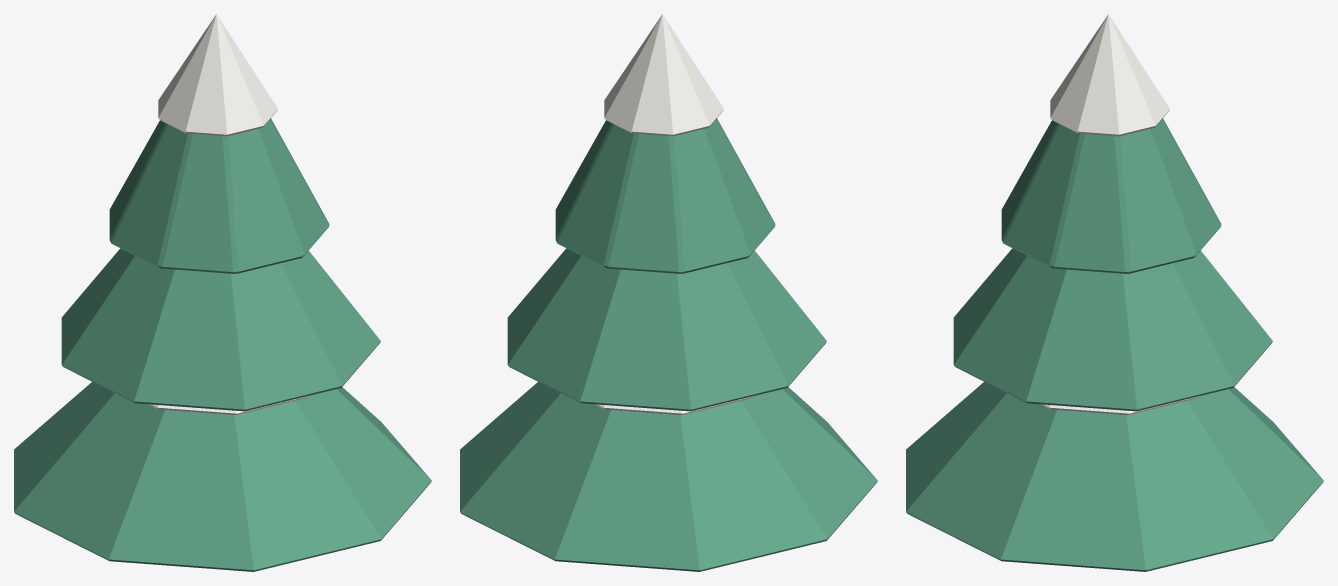
3 renders of one model, left to right at view 1: azimuth 30°, elevation 25°; view 2: azimuth 150°, elevation 25°; view 3: azimuth 270°, elevation 25°, orthographic.
Visible parts, largest first — view 1: PineTree; view 2: PineTree; view 3: PineTree.
Boxes of the visible parts, x1=… form: PineTree: x1=14, y1=14, x2=431, y2=571; PineTree: x1=460, y1=14, x2=877, y2=571; PineTree: x1=906, y1=14, x2=1323, y2=571.
Bounding box in the file's own units: 1.66 × 2.32 × 1.63.
